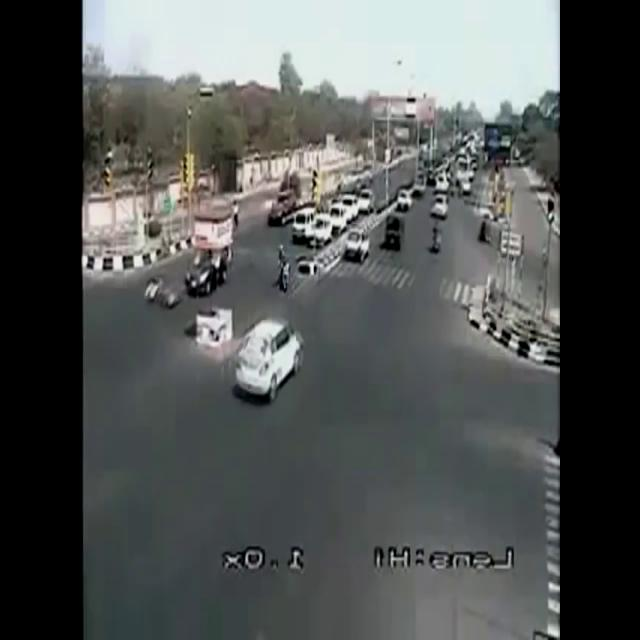accident: (146, 280, 182, 310)
non-accident: (295, 190, 371, 244), (432, 132, 486, 195)
